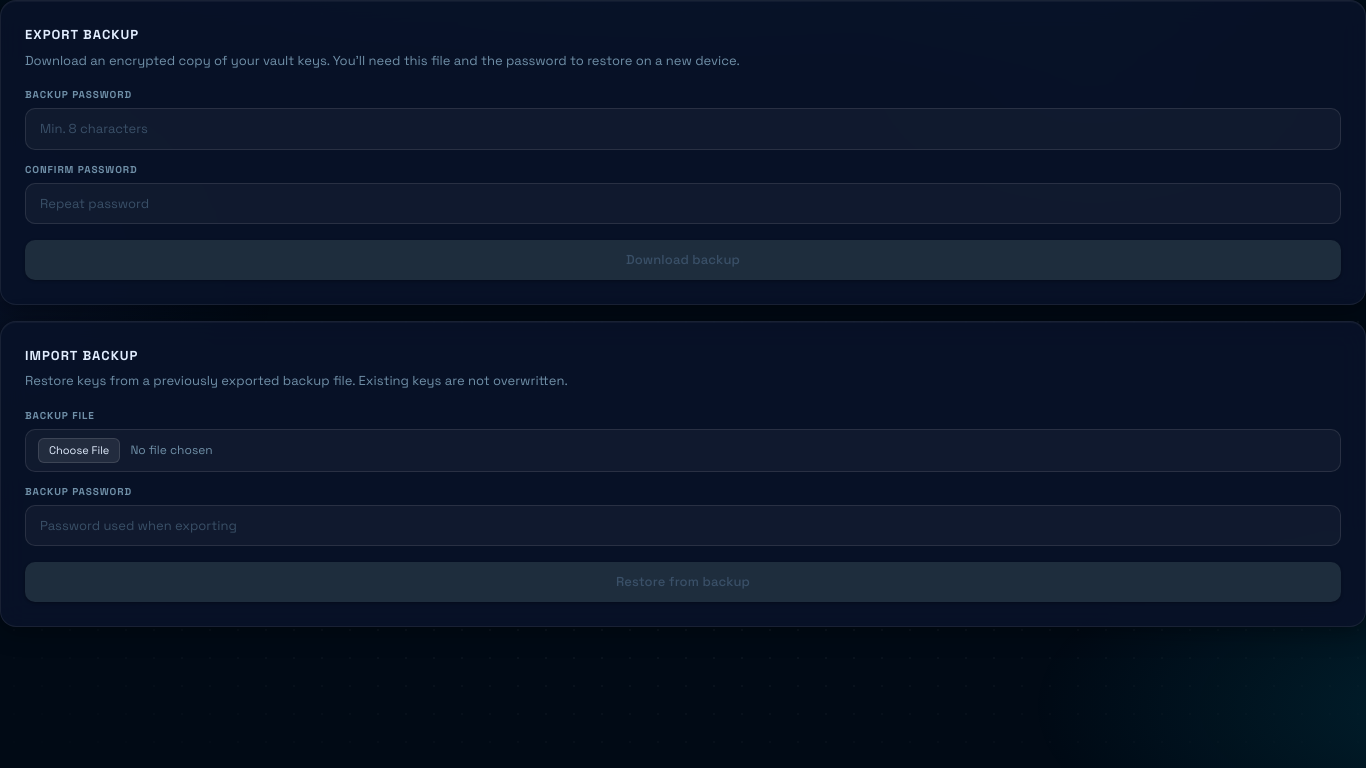
Test: VaultBackup — Export panel › shows error when password is shorter than 8 characters
Type "short" into the password field with placeholder "Min. 8 characters" at [683, 129], box [25,108,1341,150]
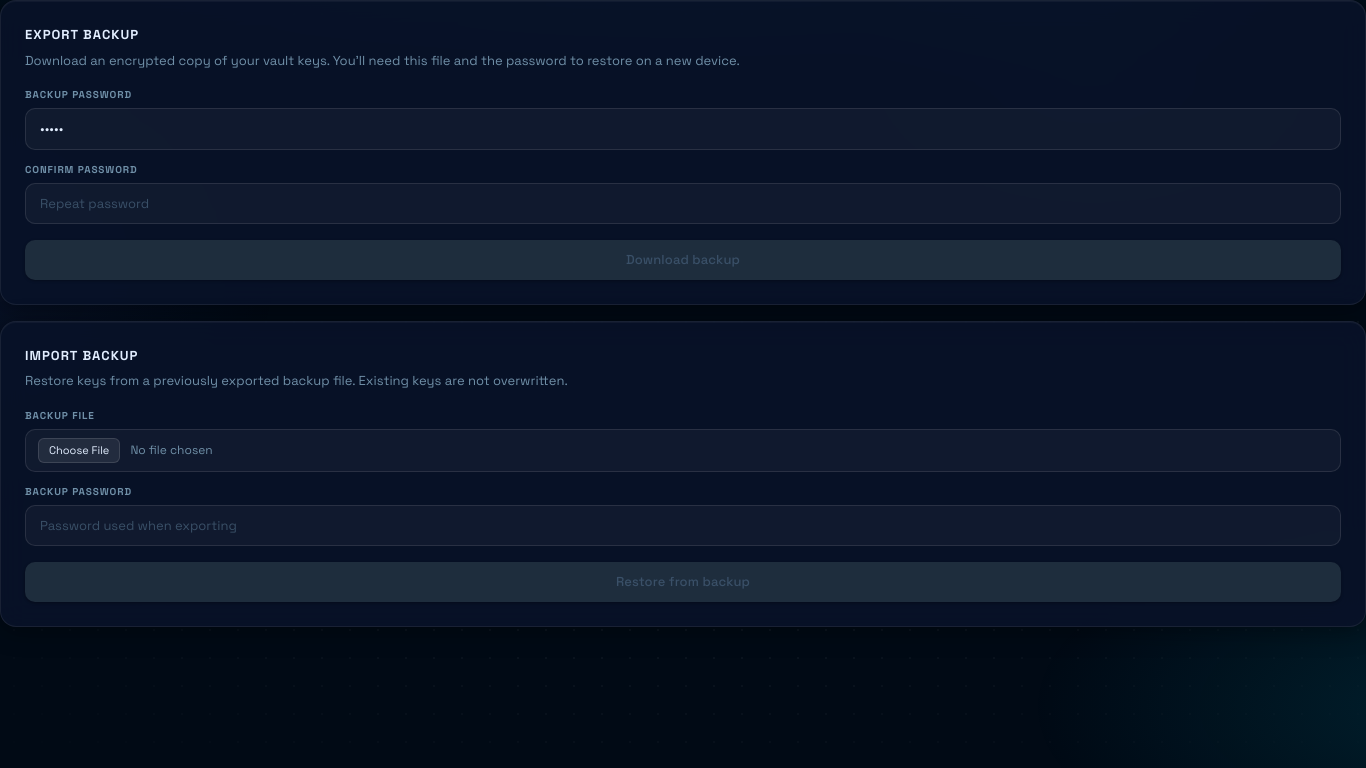
Type "short" into the password field with placeholder "Repeat password" at [683, 204], box [25,183,1341,224]
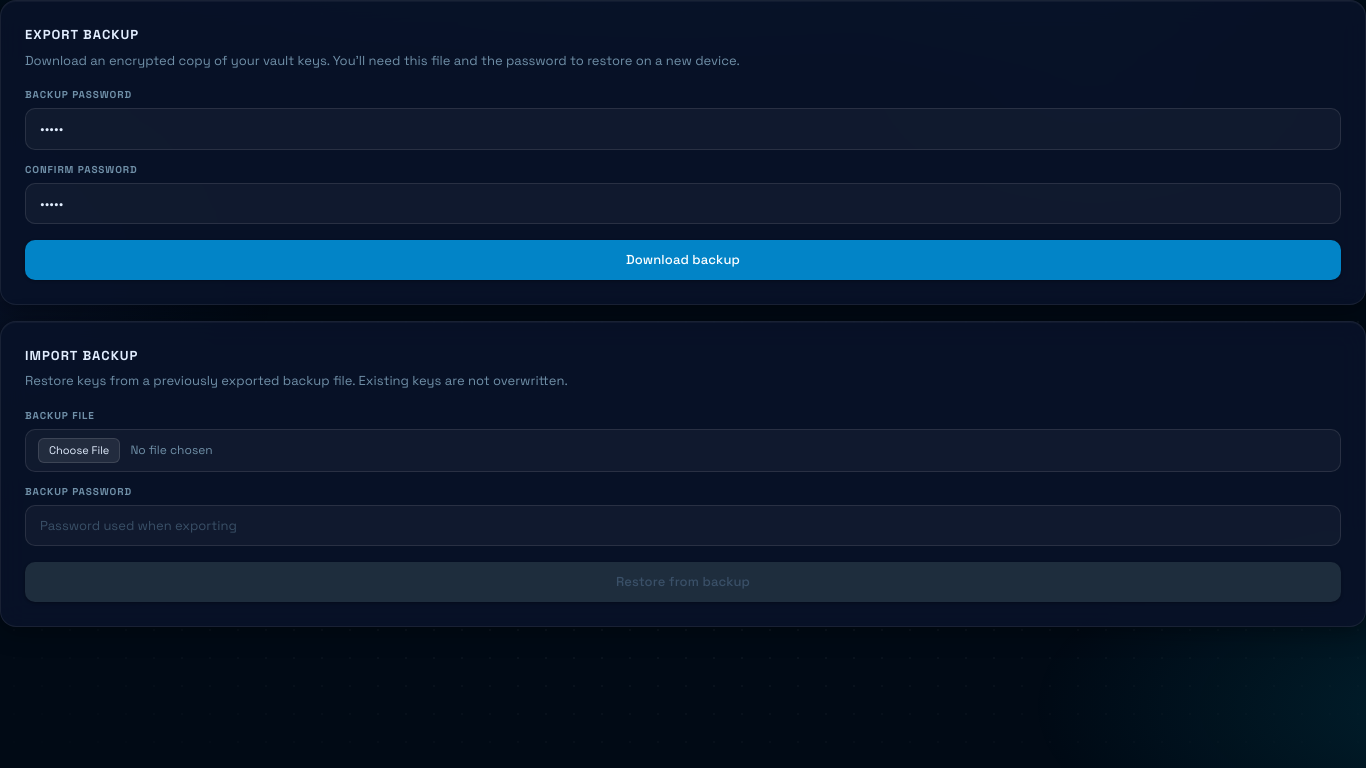
Click the button "Download backup" at [683, 260], box [25,240,1341,280]
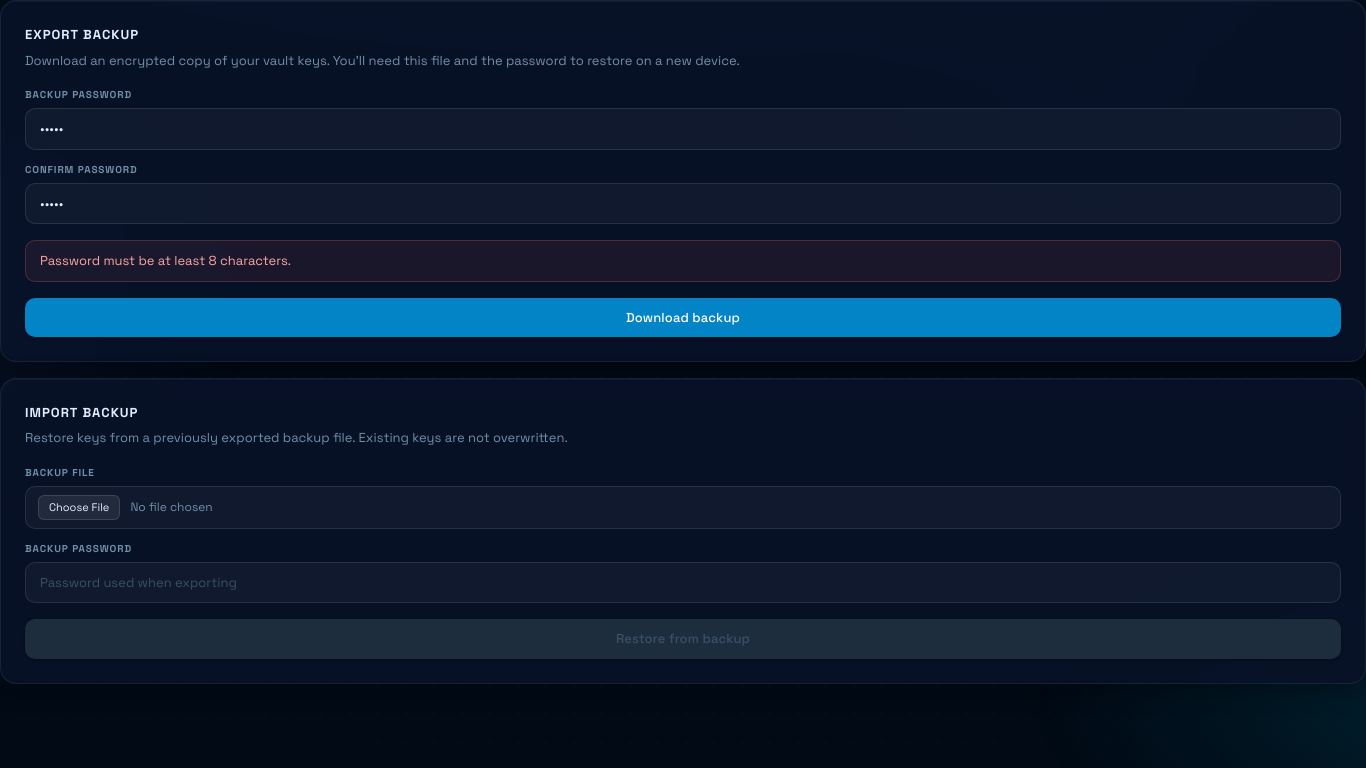
Check: the text "Password must be at least 8 characters." is shown, box [25,240,1341,282]
